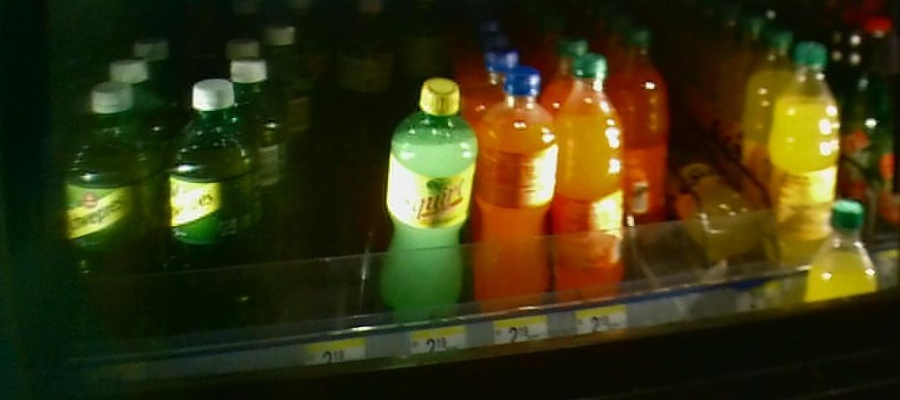bottle: (61, 76, 163, 345), (375, 80, 482, 322), (165, 70, 255, 337), (483, 63, 557, 319), (769, 31, 839, 260), (561, 55, 623, 309), (616, 25, 671, 244), (691, 164, 757, 291)
